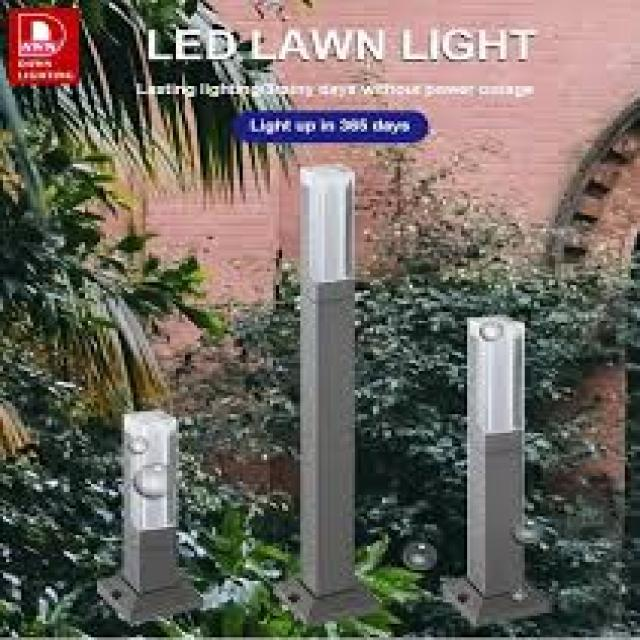bollard: (290, 155, 391, 624), (458, 304, 556, 624), (98, 390, 218, 627)
